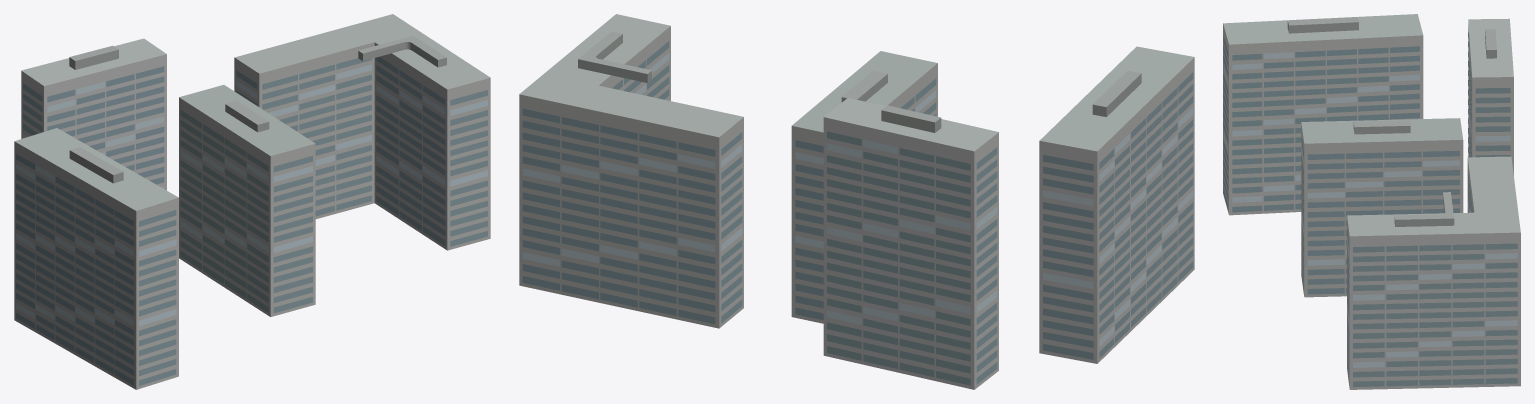
Rendered from apt-a12205004.glb.
The picture shows the model from 3 angles, left to right: view 1: azimuth 30°, elevation 25°; view 2: azimuth 150°, elevation 25°; view 3: azimuth 270°, elevation 25°; orthographic projection. The views are drawn at different scales.
Parts seen in each view (by area): view 1: apt-a12205004; view 2: apt-a12205004; view 3: apt-a12205004.
Boxes of the visible parts, bbox=[...] form: apt-a12205004: bbox=[14, 14, 490, 389]; apt-a12205004: bbox=[519, 14, 1194, 389]; apt-a12205004: bbox=[1223, 14, 1520, 389].
Size of the model in its own units: 123 by 56 by 75.47.
